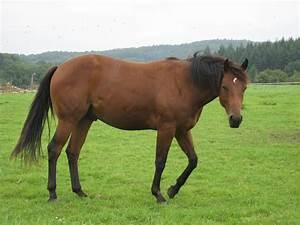horse: (9, 51, 249, 204)
